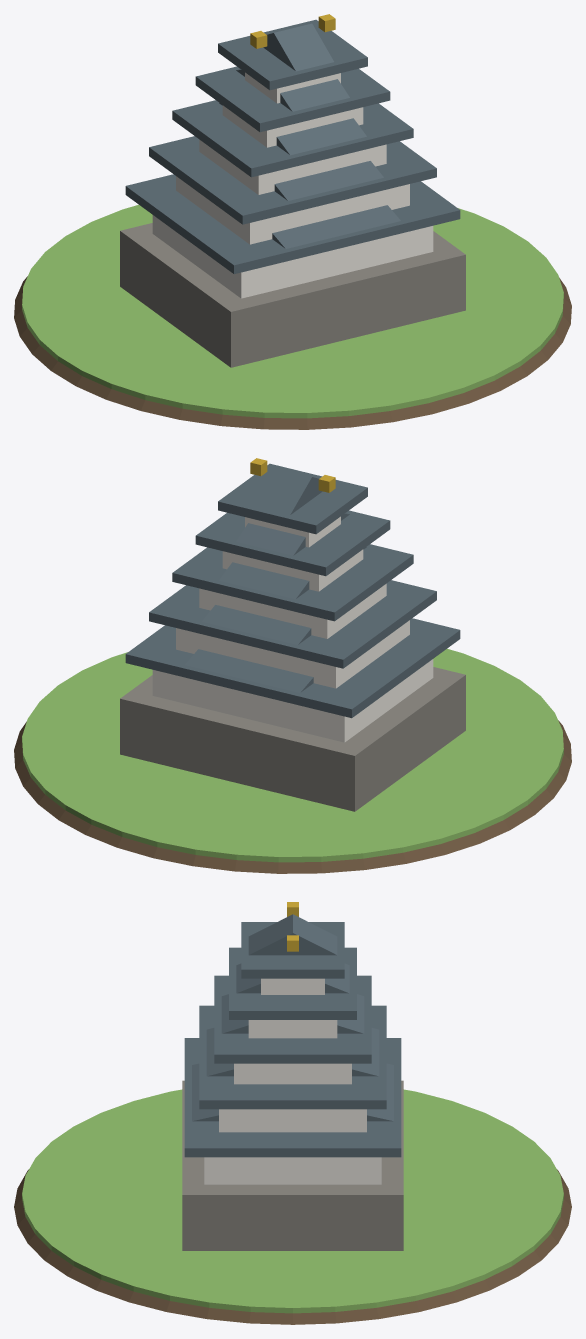
File: himeji-castle.glb
3 views of the same model, one above another, from view 1: azimuth 30°, elevation 25°; view 2: azimuth 150°, elevation 25°; view 3: azimuth 270°, elevation 25° (orthographic).
Parts seen in each view (by area): view 1: himeji-castle; view 2: himeji-castle; view 3: himeji-castle.
Part boxes in pixels (x1,y1,x2,y2): himeji-castle: [14, 14, 571, 429]; himeji-castle: [14, 458, 571, 873]; himeji-castle: [14, 902, 571, 1324].
Bounding box in the file's own units: 1.77 × 1 × 1.77.
